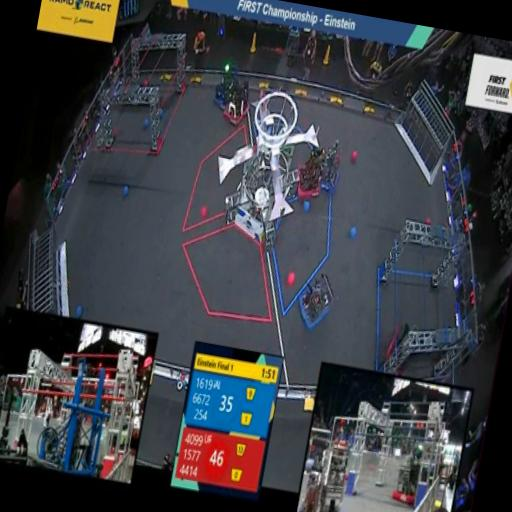robot: (288, 262, 340, 342), (380, 310, 424, 377), (290, 138, 328, 204), (313, 136, 348, 200), (218, 76, 256, 133), (205, 51, 241, 110)
